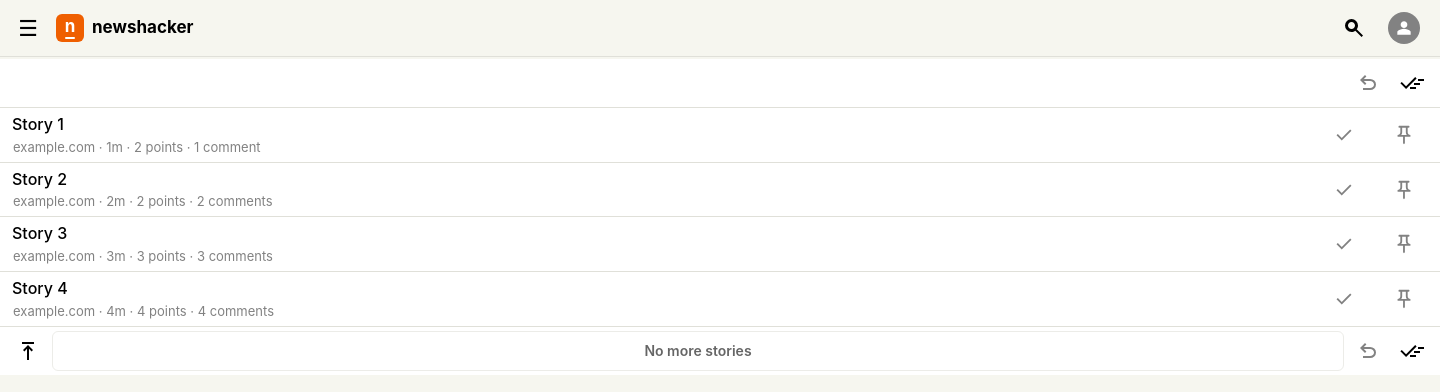
Test case: <StoryList> pinned-to-top block › Sweep no longer consolidates in-body pins — nothing reorders under the reader
The image size is (1440, 392).
Note: Pin Story 4 (the last body row). It stays at its natural index 3.
Step 1. Click the 8th button with test id "pin-btn" → (1404, 299), box left=1380, top=272, right=1428, bottom=326
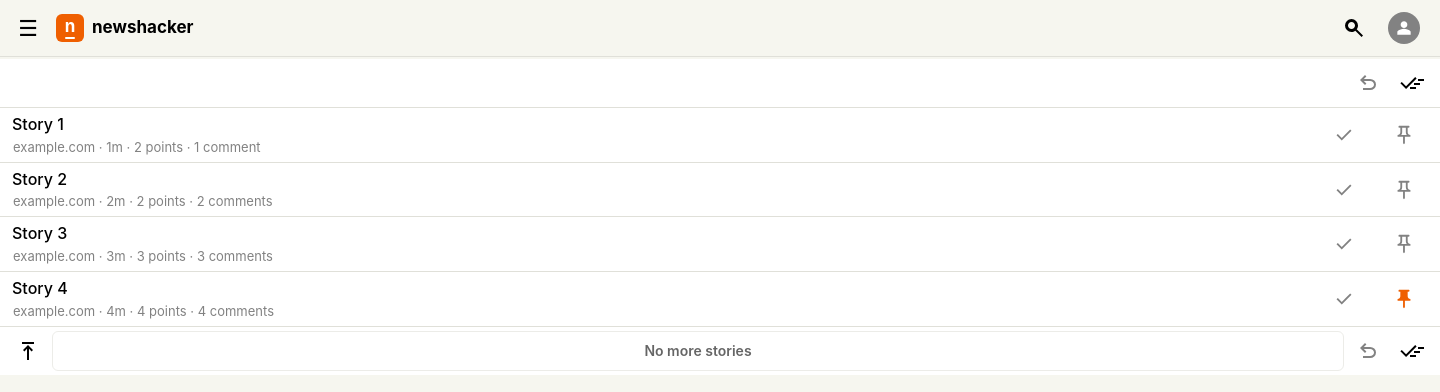
Expected: the button with test id "pin-btn" is pressed, left=1380, top=272, right=1428, bottom=326
Step 2. Click the button with test id "sweep-btn" → (1412, 83), box left=1392, top=63, right=1432, bottom=103
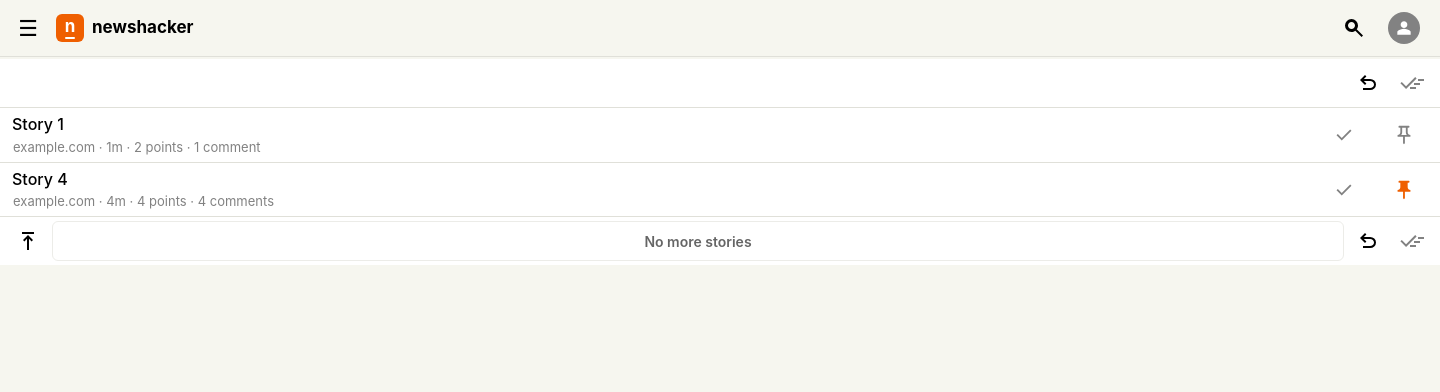
Expected: the link "Story 2" is gone
Expected: the link "Story 3" is gone
